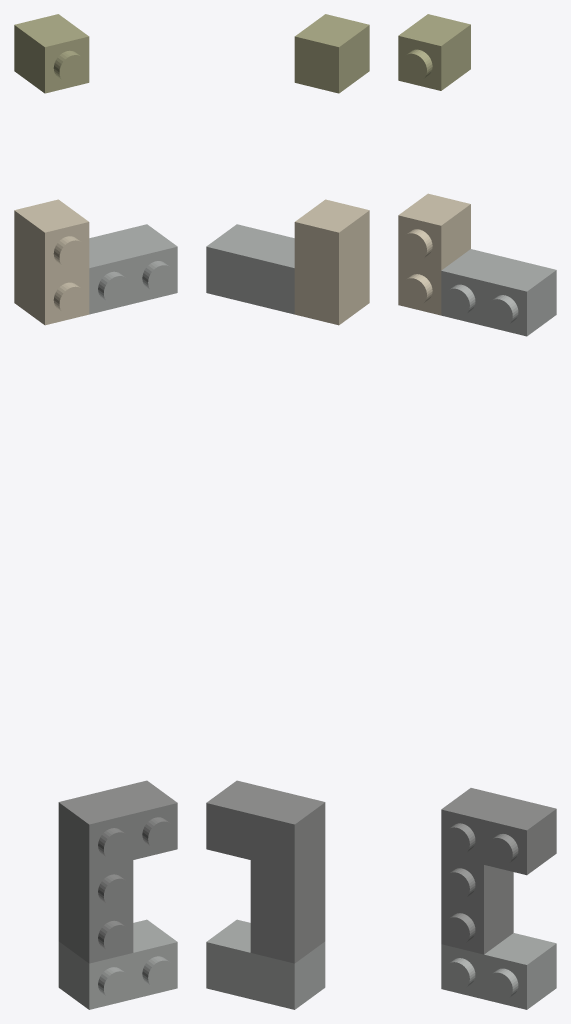
File: current.glb
3 views of the same model, side by side, from view 1: azimuth 30°, elevation 25°; view 2: azimuth 150°, elevation 25°; view 3: azimuth 330°, elevation 25° (orthographic). The views are drawn at different scales.
Parts seen in each view (by area): view 1: world; view 2: world; view 3: world.
Boxes of the visible parts, x1,y1,x2,y2 form: world: [14, 14, 177, 1009]; world: [206, 14, 369, 1009]; world: [398, 14, 556, 1009].
Size of the model in its own units: 24 by 168 by 11.4.
